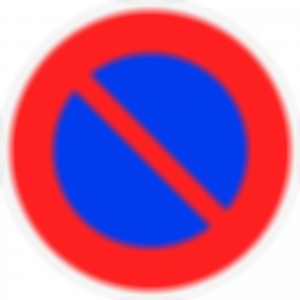Prohibition_sign: (2, 1, 298, 300)
